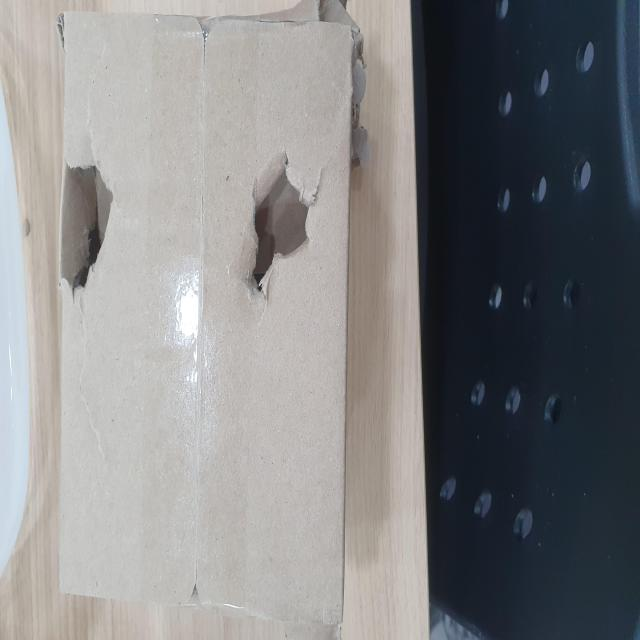damaged: (186, 426, 274, 562), (183, 107, 276, 207)
